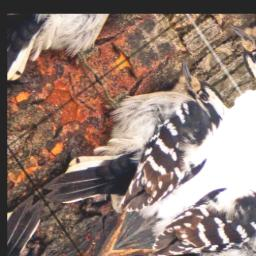Woodpecker: (9, 24, 256, 256)
